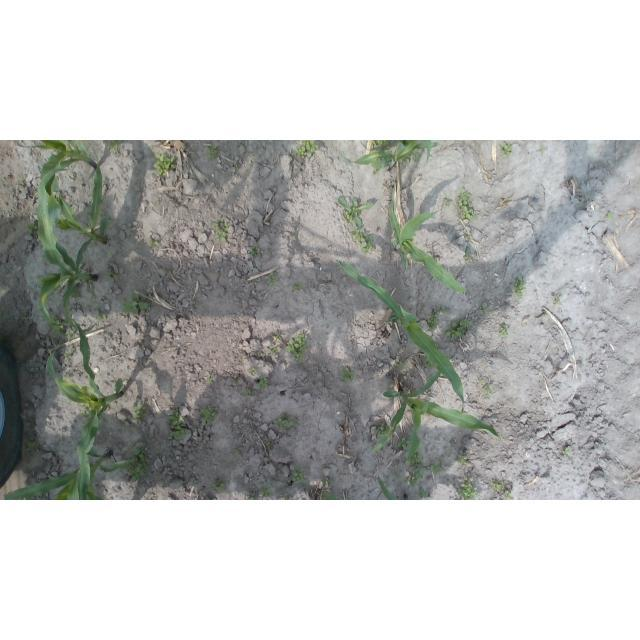Maize: (337, 259, 465, 416), (46, 320, 122, 500), (368, 370, 500, 466), (30, 168, 98, 333), (387, 184, 467, 295), (40, 162, 109, 273), (4, 442, 134, 500), (27, 140, 97, 194), (338, 141, 439, 172), (376, 475, 411, 500)
Weeds: (337, 195, 373, 227), (285, 331, 308, 365), (456, 188, 477, 221), (351, 227, 375, 253), (122, 292, 149, 315), (131, 443, 153, 469), (446, 318, 471, 340), (153, 154, 176, 176), (409, 465, 428, 488), (211, 219, 229, 243), (459, 478, 478, 500), (296, 140, 318, 156), (126, 465, 146, 482), (512, 276, 527, 298), (274, 413, 296, 428), (166, 407, 184, 425), (199, 407, 217, 425), (170, 424, 189, 440), (26, 437, 44, 452), (340, 368, 356, 384), (479, 380, 493, 397), (432, 459, 447, 474), (293, 468, 307, 484), (396, 435, 411, 449), (51, 317, 66, 331), (372, 141, 391, 152), (427, 316, 440, 332), (500, 142, 513, 157), (497, 325, 510, 340), (132, 405, 145, 420), (85, 280, 96, 297), (256, 376, 269, 389), (207, 145, 218, 160), (260, 484, 273, 496), (78, 403, 91, 415), (463, 249, 473, 264), (492, 480, 507, 490), (109, 141, 122, 152), (24, 221, 35, 234), (378, 424, 389, 436), (250, 244, 261, 256), (458, 453, 468, 466), (395, 359, 406, 370), (215, 480, 226, 491), (70, 289, 81, 300), (436, 305, 448, 315), (292, 281, 304, 291), (324, 492, 337, 501), (412, 151, 422, 162), (96, 313, 106, 324), (267, 273, 278, 283), (269, 344, 279, 354), (503, 490, 513, 500), (425, 358, 435, 368), (411, 453, 420, 464), (420, 486, 427, 499), (66, 330, 75, 340), (281, 492, 292, 500), (323, 476, 334, 484), (464, 231, 473, 240), (64, 351, 73, 360), (148, 240, 158, 248), (61, 372, 71, 380), (242, 389, 253, 396), (480, 307, 489, 315), (247, 492, 256, 500), (553, 297, 561, 306), (265, 442, 272, 452), (105, 268, 113, 276), (392, 471, 401, 478), (207, 374, 213, 384), (372, 168, 380, 175), (404, 155, 411, 163), (233, 376, 239, 385), (562, 449, 568, 458), (250, 368, 257, 375), (607, 213, 614, 220), (22, 313, 29, 320), (41, 253, 48, 260), (442, 199, 450, 205), (388, 315, 396, 321), (433, 340, 439, 347), (275, 334, 281, 341), (390, 238, 396, 244), (188, 301, 192, 308), (540, 147, 544, 154), (236, 451, 241, 456), (19, 178, 25, 182), (20, 292, 24, 296)
